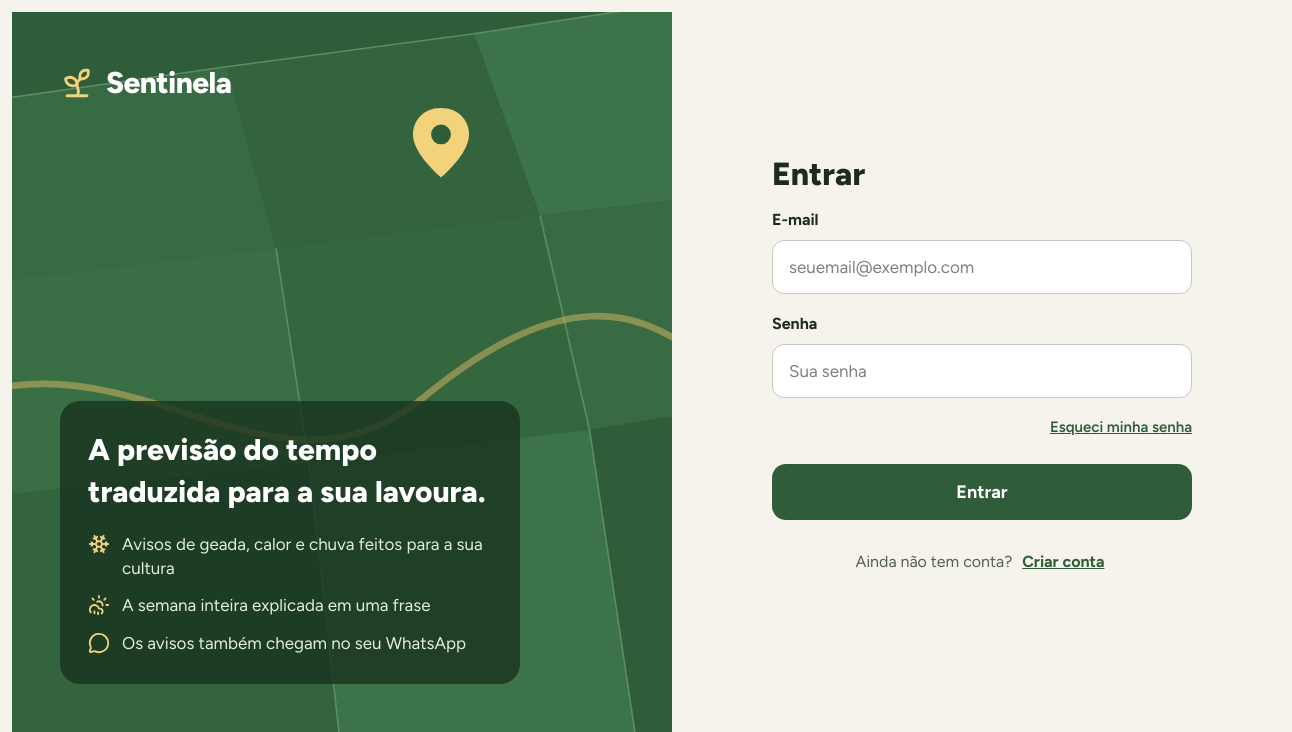
Test case: Entrar › sem internet, mostra a mensagem de sem conexão
Expected: the heading "Entrar" is shown, [772,155,865,193]
In the field labelled "E-mail": (982, 267) [772,240,1192,294], type "joao@exemplo.com"
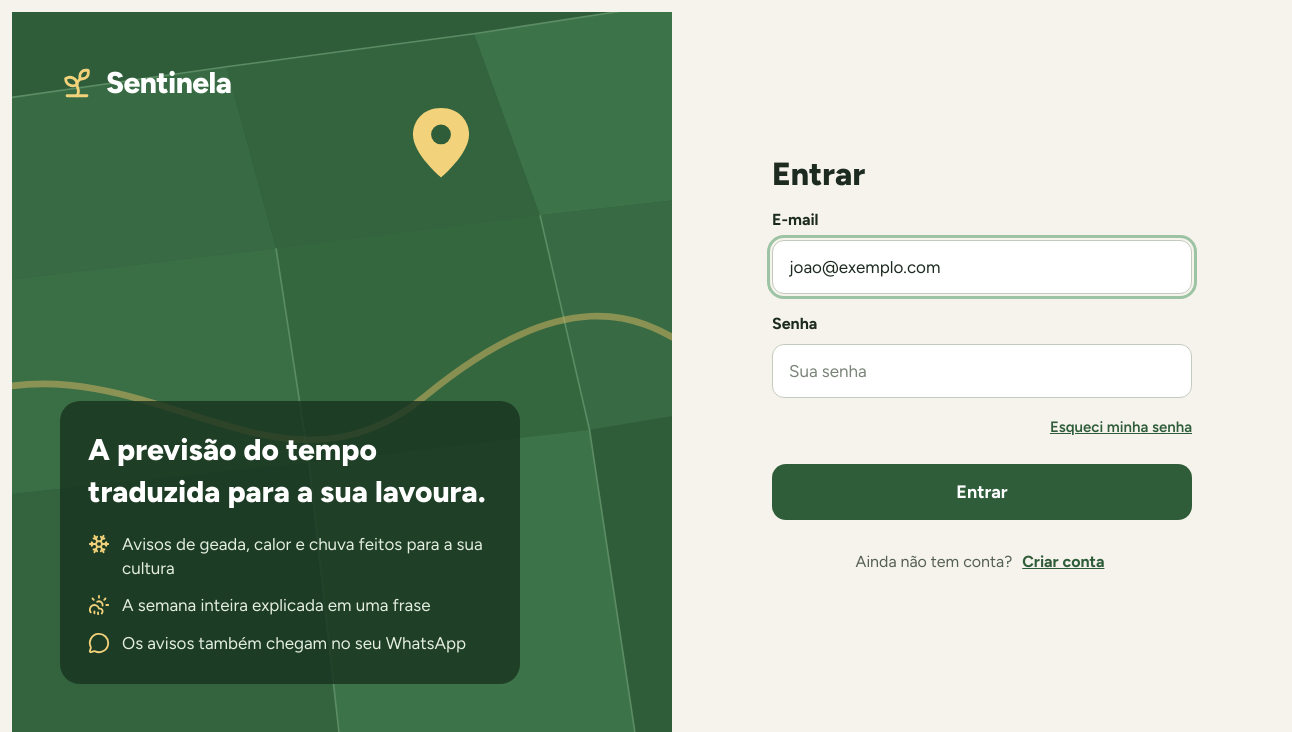
In the password field labelled "Senha": (982, 371) [772,344,1192,398], type "123456"
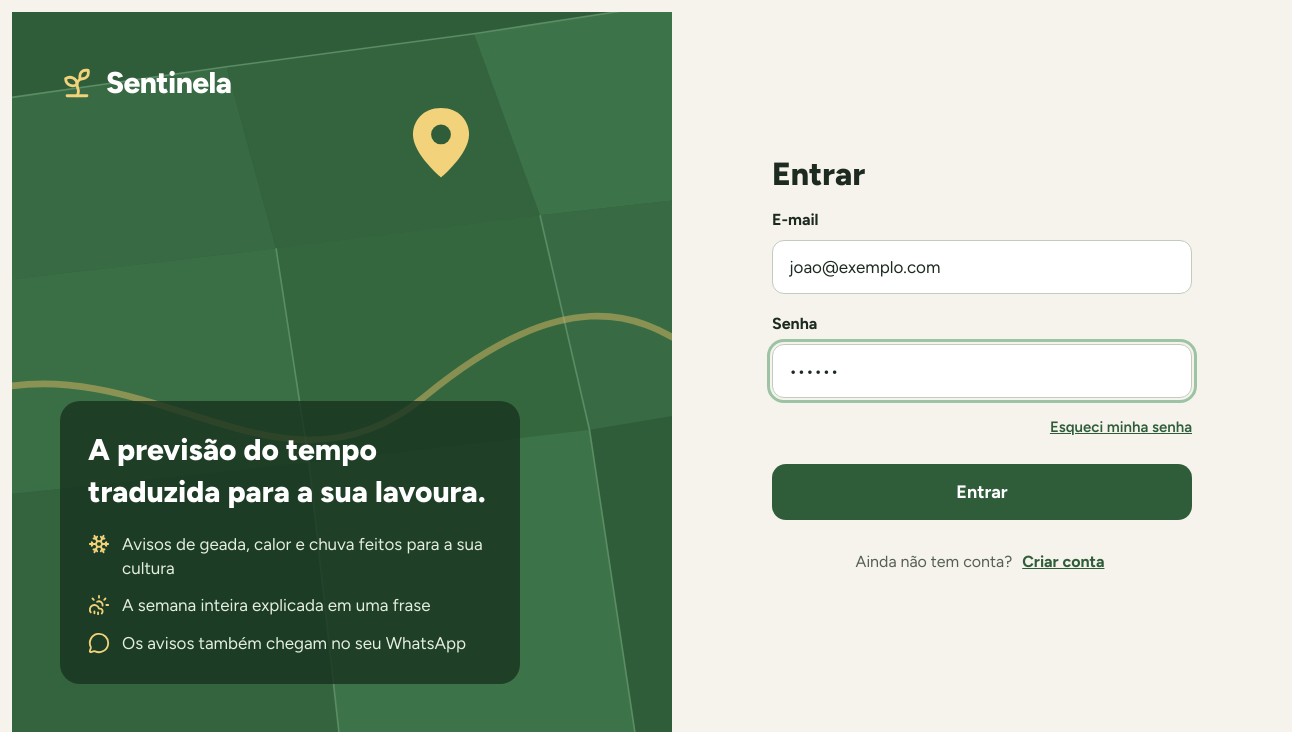
Click the button "Entrar": (982, 492) [772,464,1192,520]
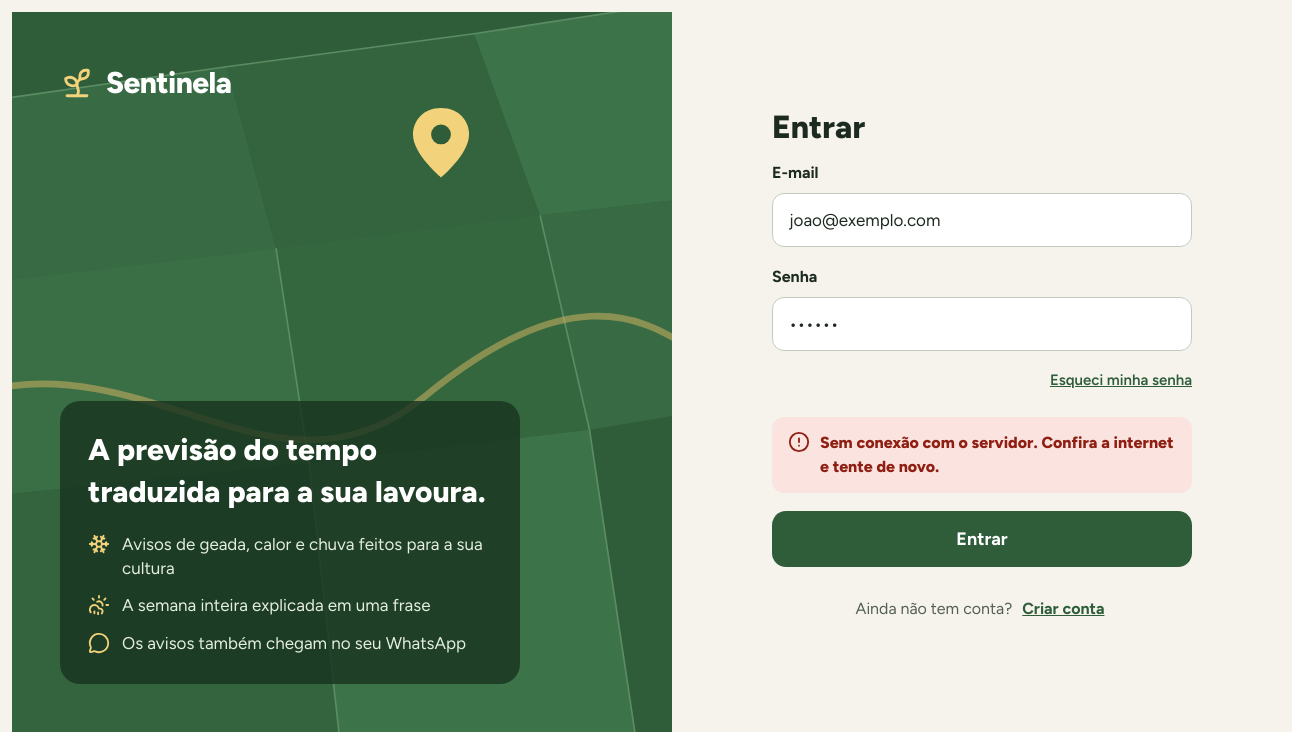
Expected: the message reads "Sem conexão com o servidor. Confira a internet e tente de novo.", [820,433,1174,476]
